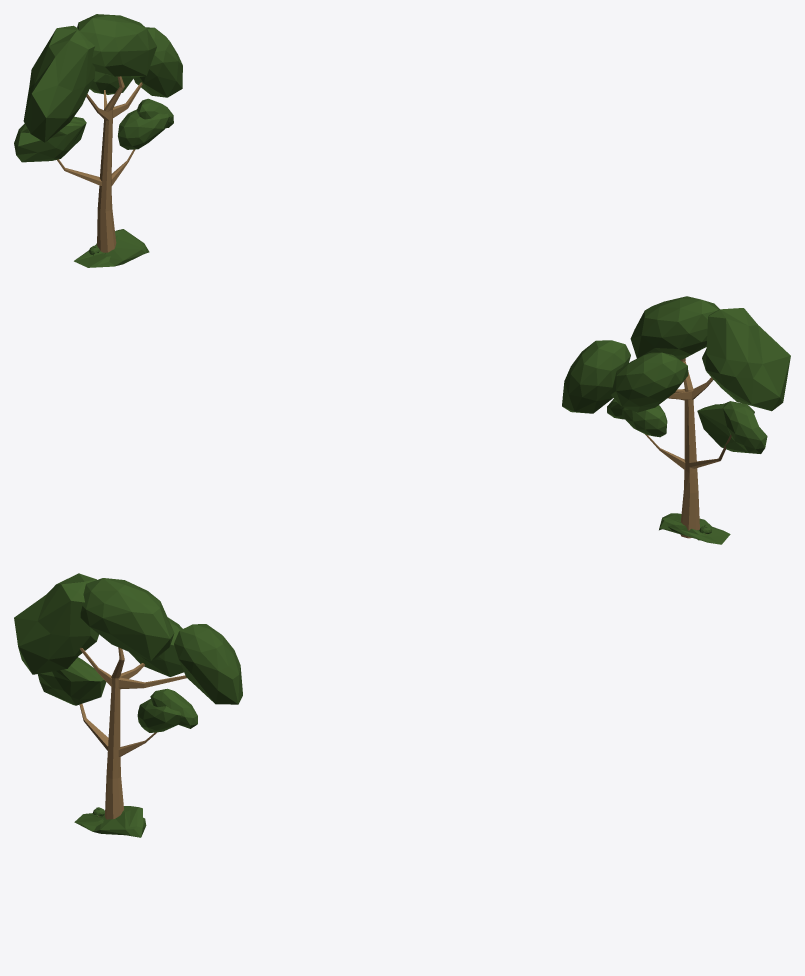
File: tree.glb
The picture shows the model from 3 angles, top to bottom: view 1: azimuth 30°, elevation 25°; view 2: azimuth 150°, elevation 25°; view 3: azimuth 330°, elevation 25°; orthographic projection.
Visible parts, largest first — view 1: C-skp7EEA; view 2: C-skp7EEA; view 3: C-skp7EEA.
Boxes of the visible parts, box(x1,y1,x2,y2) form: C-skp7EEA: box(14, 14, 182, 267); C-skp7EEA: box(562, 296, 790, 544); C-skp7EEA: box(14, 573, 242, 837).
Bounding box in the file's own units: 25.34 × 7.58 × 3.16.
